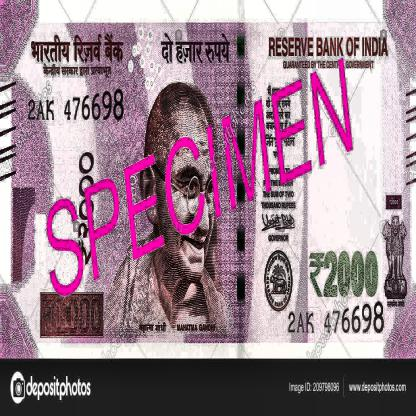Rs2000: (303, 242, 384, 300)
